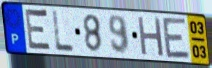8: (82, 12, 104, 54)
9: (108, 14, 131, 56)
E: (161, 16, 192, 61), (24, 6, 53, 54)
H: (137, 15, 166, 59)
L: (51, 9, 77, 53)
